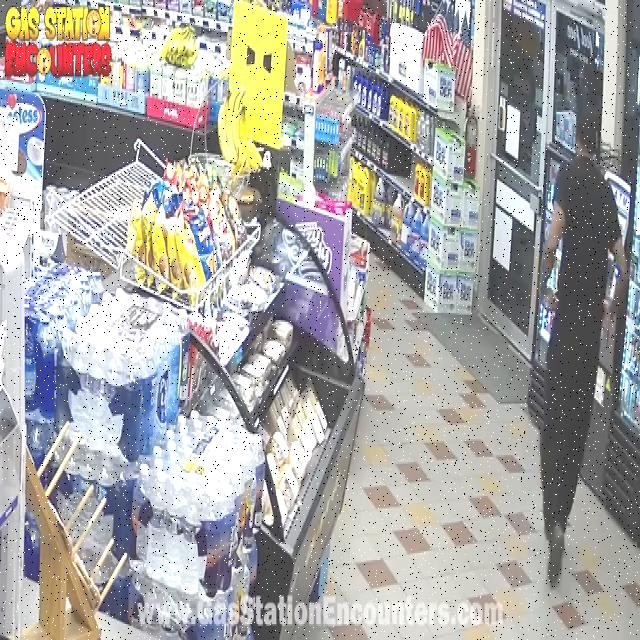person: (540, 108, 627, 583)
